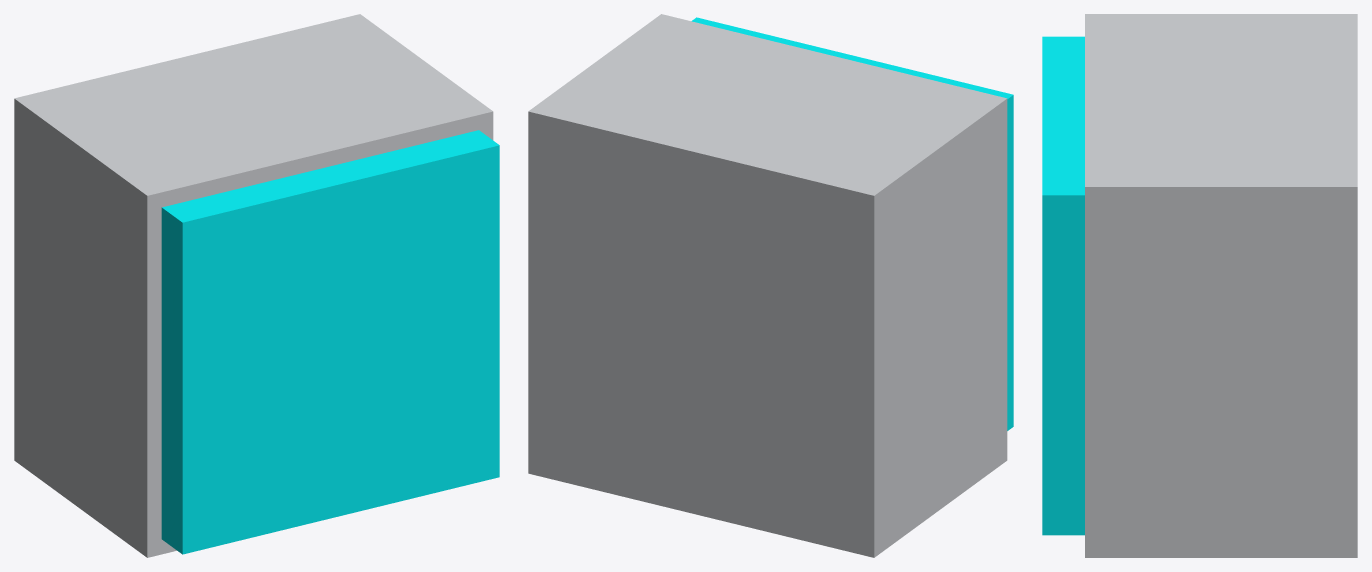
Rendered from cooler.glb.
3 views of the same model, side by side, from view 1: azimuth 30°, elevation 25°; view 2: azimuth 150°, elevation 25°; view 3: azimuth 270°, elevation 25° (orthographic). The views are drawn at different scales.
Visible parts, largest first — view 1: RGBFan, TowerHeatsink; view 2: TowerHeatsink, RGBFan; view 3: TowerHeatsink, RGBFan.
Part boxes in pixels (box(x1,y1,x2,y2)): RGBFan: box(161, 130, 499, 554); TowerHeatsink: box(14, 14, 493, 557); TowerHeatsink: box(528, 14, 1007, 557); RGBFan: box(691, 17, 1013, 430); TowerHeatsink: box(1085, 14, 1357, 557); RGBFan: box(1042, 36, 1084, 535).
Size of the model in its own units: 1.2 by 1.2 by 0.925.
